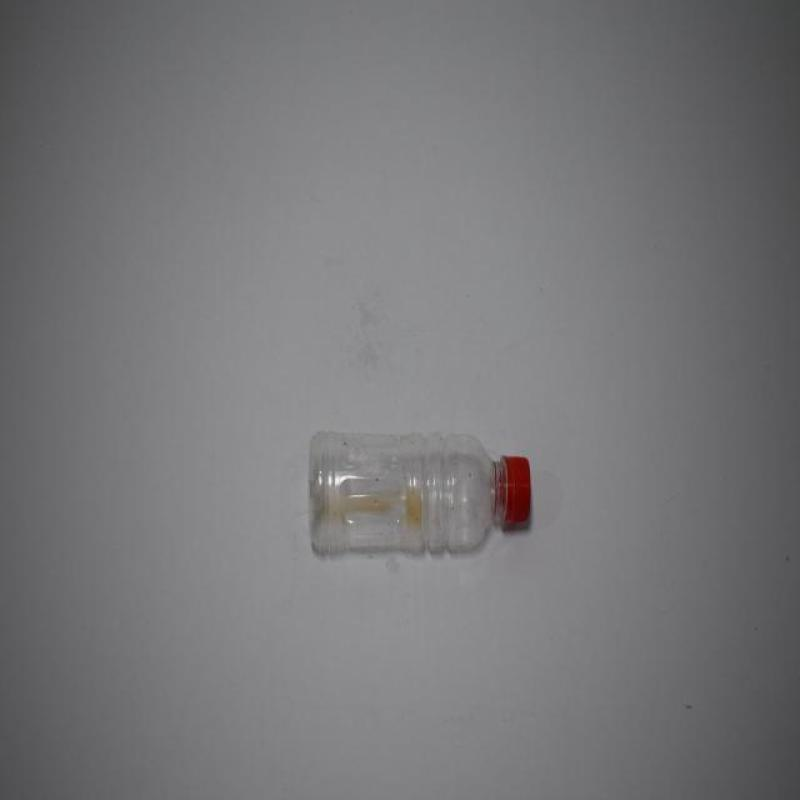botella: (307, 425, 532, 563)
